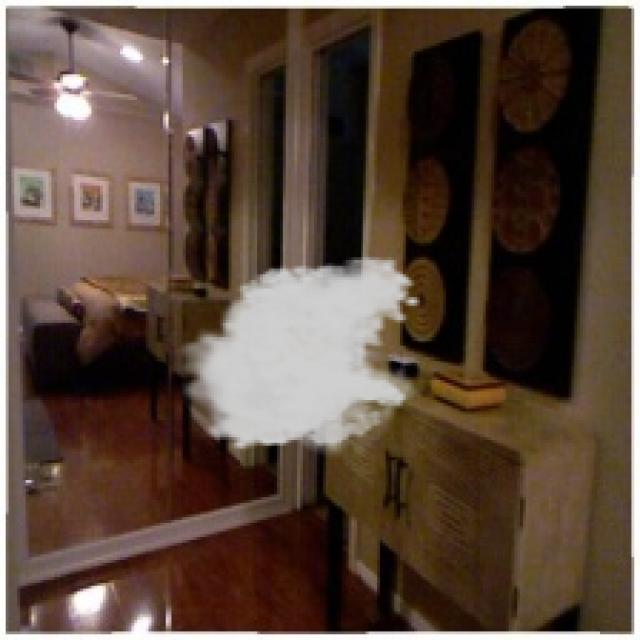Smoke: (171, 254, 423, 463)
